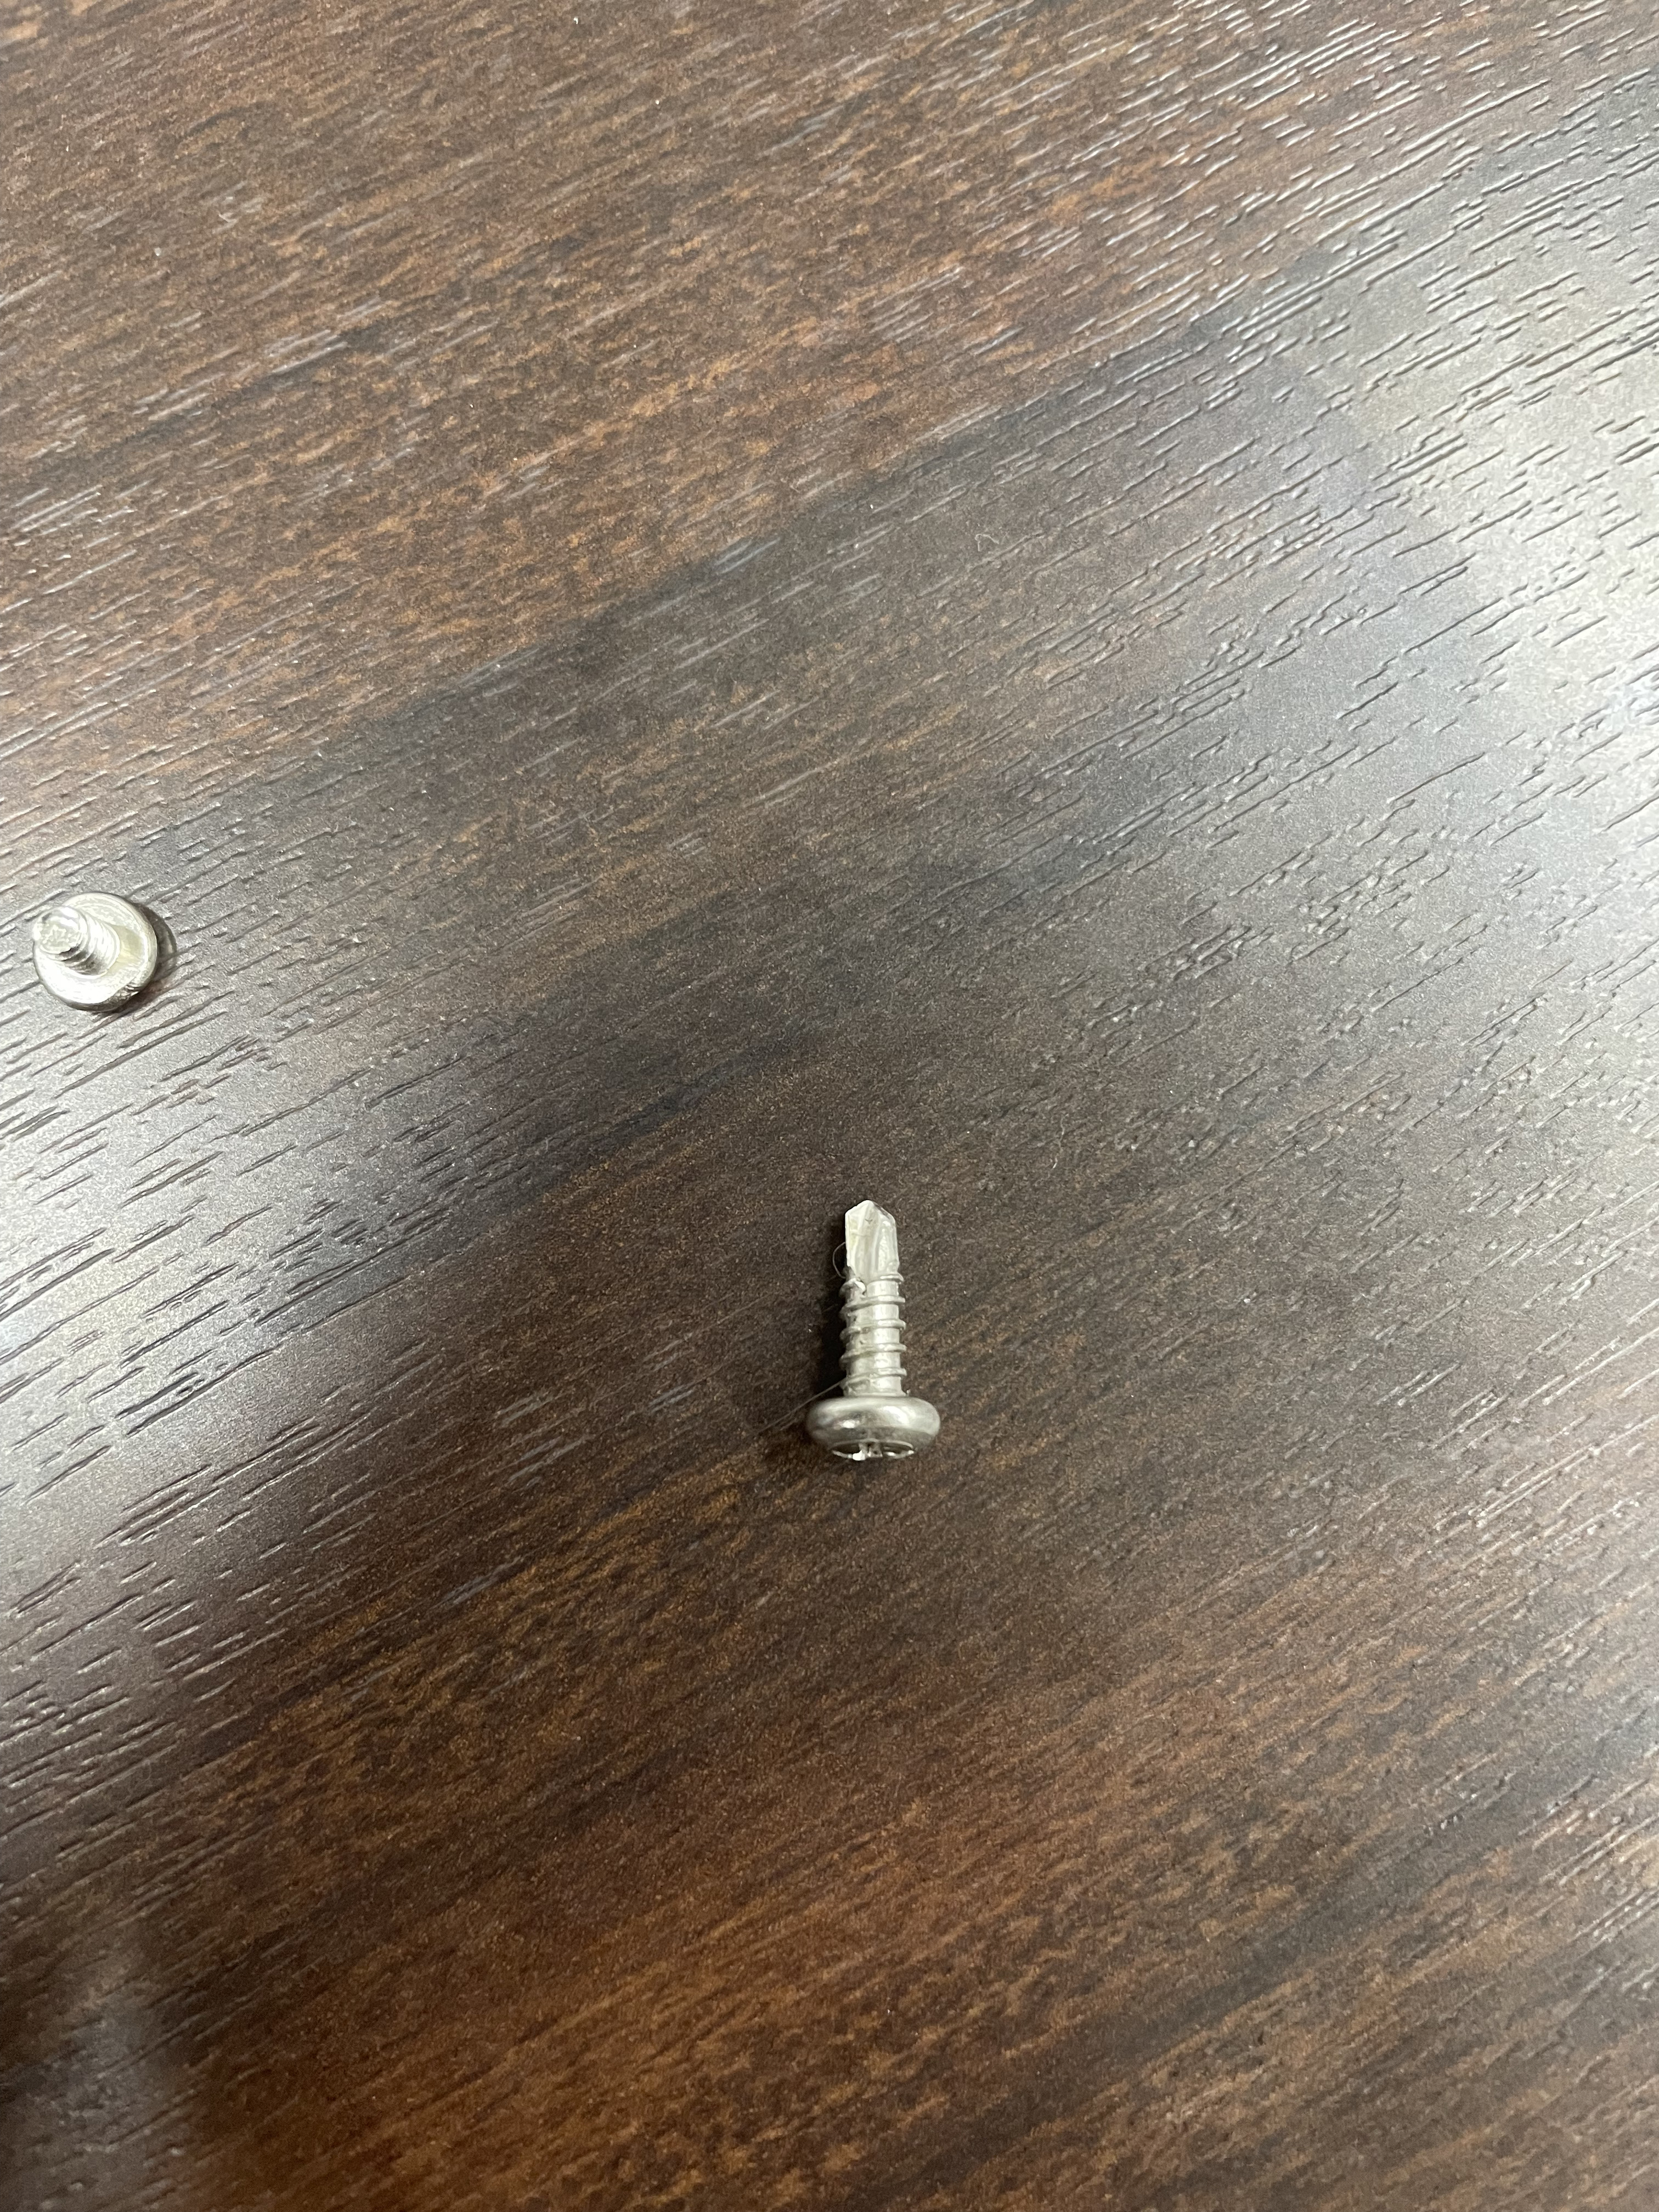screw3: (821, 1194, 940, 1472)
